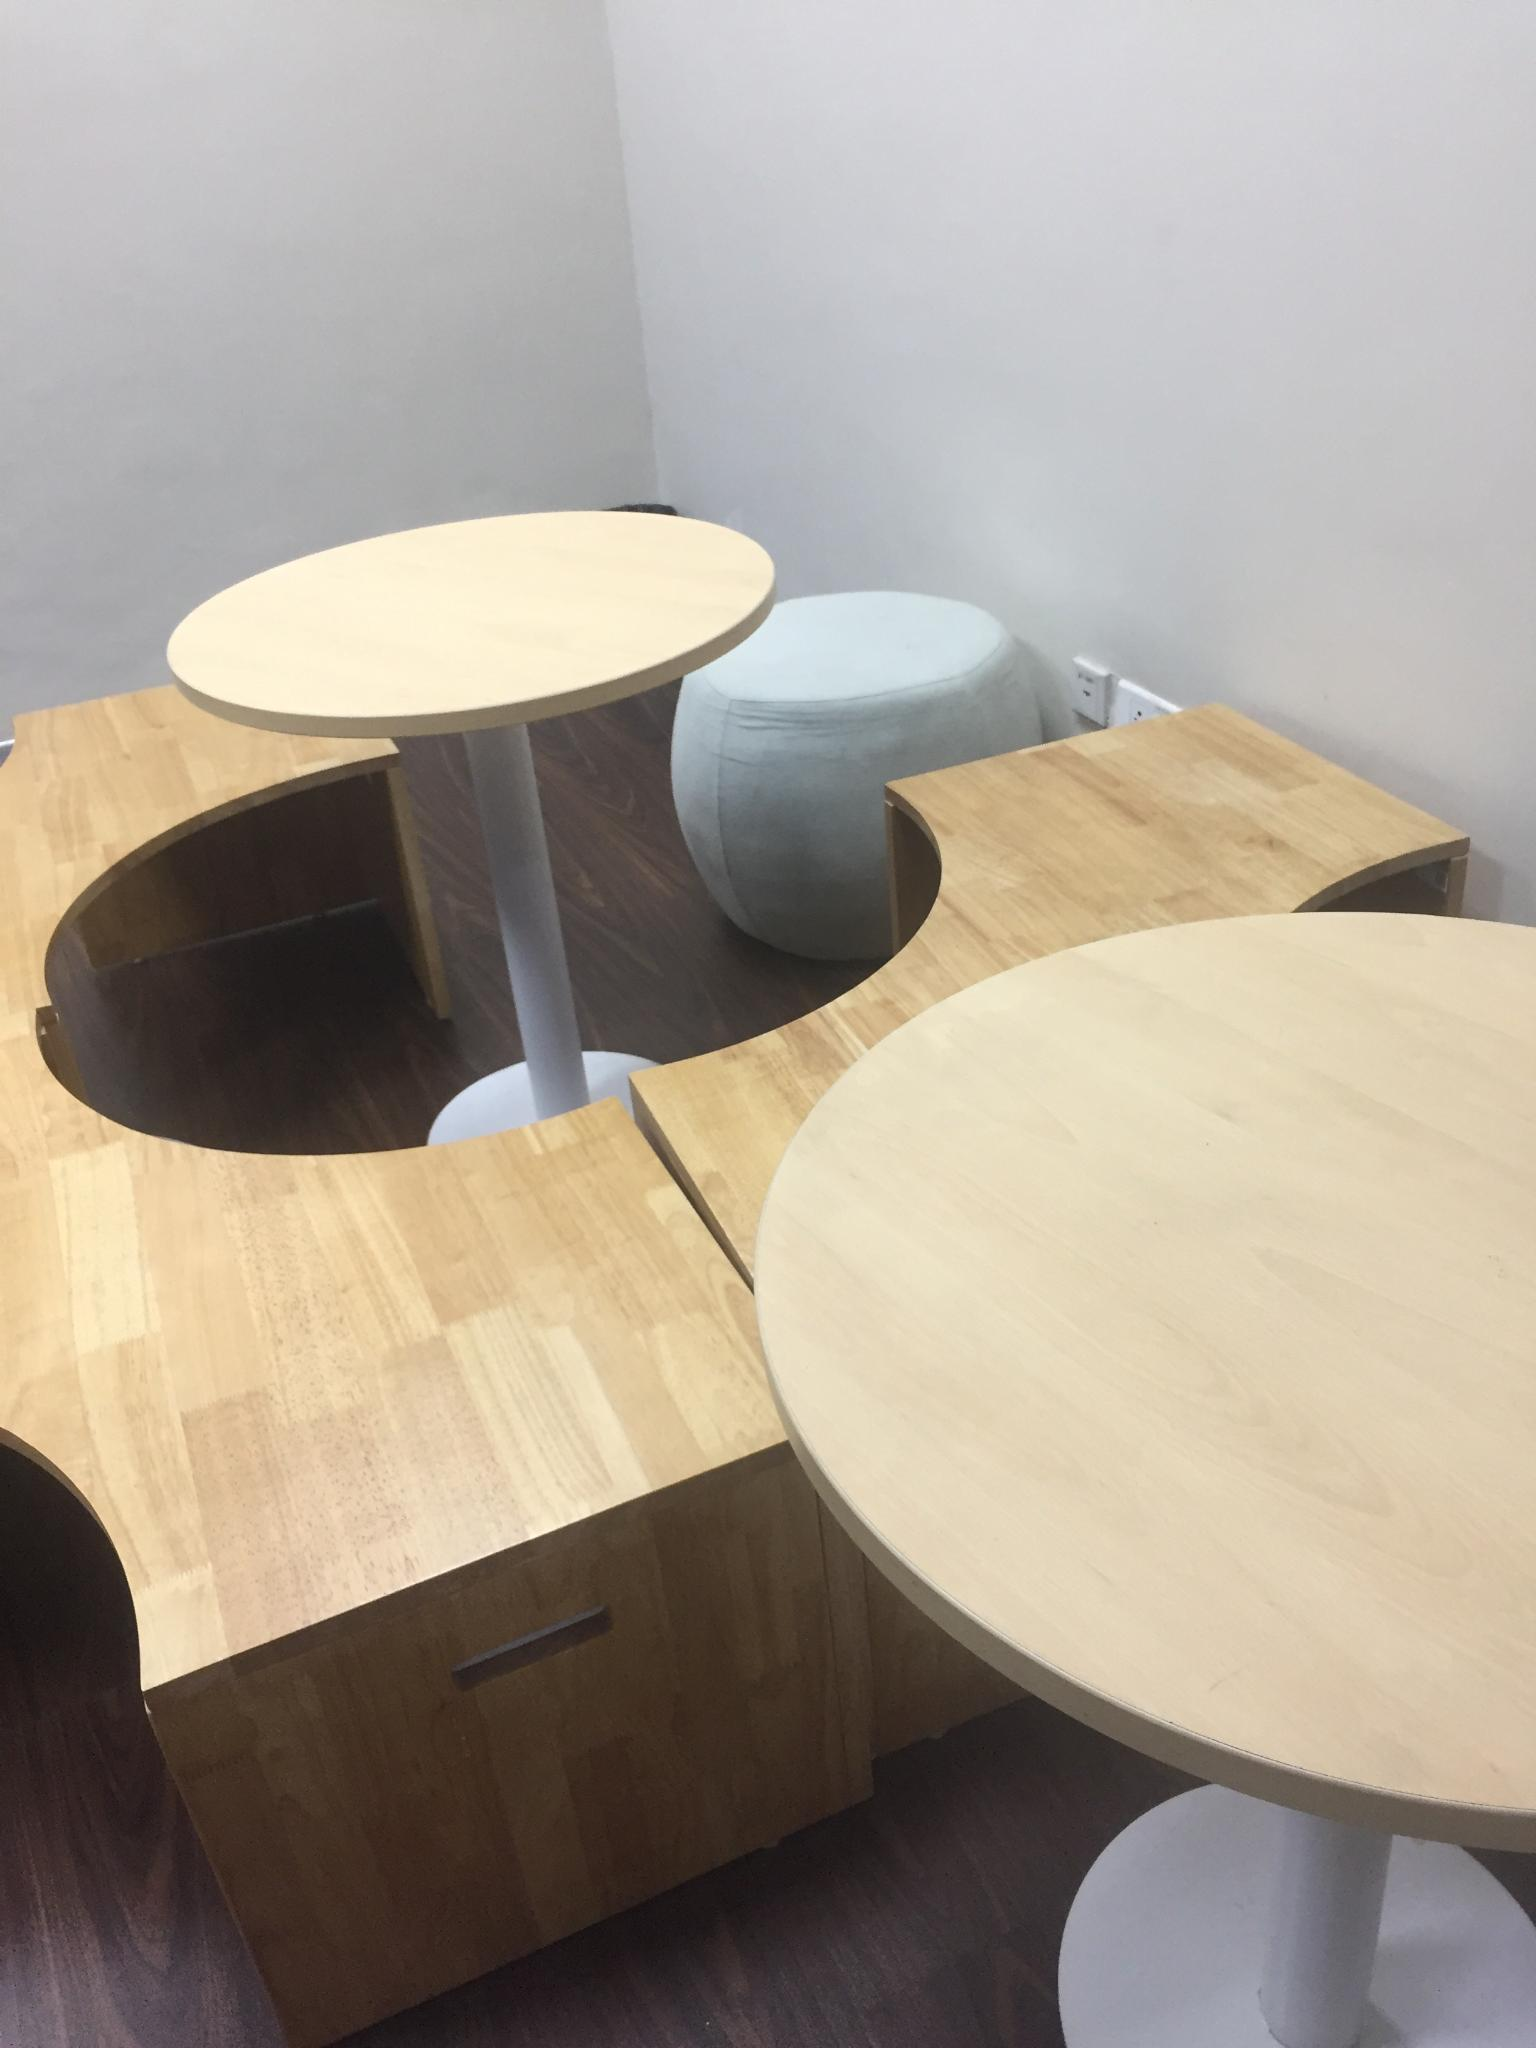chair: (636, 585, 1081, 987)
